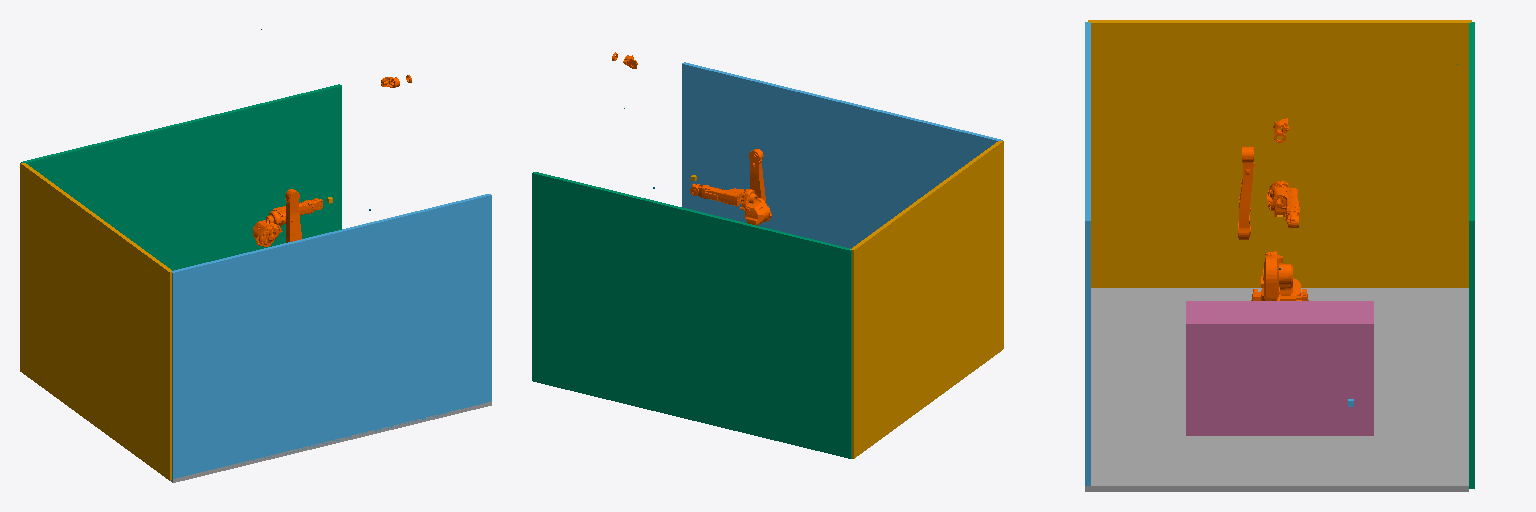
robot.urdf — irb1660_6_155:
<?xml version="1.0" ?>
<robot name="irb1660_6_155" xmlns:xacro="http://ros.org/wiki/xacro">
  <!-- robot link list -->
  <link name="base_link">
    <visual>
      <origin rpy="0 0 0" xyz="0 0 0" />
      <geometry>
        <mesh filename="package://abb_irb1660_support/meshes/base_link.stl" />
      </geometry>
      <material name="abb_orange">
        <color rgba="1 0.43 0 1" />
      </material>
    </visual>
    <collision>
      <geometry>
        <mesh filename="package://abb_irb1660_support/meshes/base_link.stl" />
      </geometry>
      <material name="yellow">
        <color rgba="0 1 1 1" />
      </material>
    </collision>
  </link>
  <link name="link_1">
    <visual>
      <origin rpy="0 0 0" xyz="0 0 0" />
      <geometry>
        <mesh filename="package://abb_irb1660_support/meshes/link_1.stl" />
      </geometry>
      <material name="abb_orange" />
    </visual>
    <collision>
      <origin rpy="0 0 0" xyz="0 0 0" />
      <geometry>
        <mesh filename="package://abb_irb1660_support/meshes/link_1.stl" />
      </geometry>
      <material name="yellow" />
    </collision>
  </link>
  <link name="link_2">
    <visual>
      <origin rpy="0 0 0" xyz="0 0 0" />
      <geometry>
        <mesh filename="package://abb_irb1660_support/meshes/link_2.stl" />
      </geometry>
      <material name="abb_orange" />
    </visual>
    <collision>
      <origin rpy="0 0 0" xyz="0 0 0" />
      <geometry>
        <mesh filename="package://abb_irb1660_support/meshes/link_2.stl" />
      </geometry>
      <material name="yellow" />
    </collision>
  </link>
  <link name="link_3">
    <visual>
      <origin rpy="0 0 0" xyz="0 0 0" />
      <geometry>
        <mesh filename="package://abb_irb1660_support/meshes/link_3.stl" />
      </geometry>
      <material name="abb_orange" />
    </visual>
    <collision>
      <origin rpy="0 0 0" xyz="0 0 0" />
      <geometry>
        <mesh filename="package://abb_irb1660_support/meshes/link_3.stl" />
      </geometry>
      <material name="yellow" />
    </collision>
  </link>
  <link name="link_4">
    <visual>
      <origin rpy="0 0 0" xyz="0 0 0" />
      <geometry>
        <mesh filename="package://abb_irb1660_support/meshes/link_4.stl" />
      </geometry>
      <material name="abb_orange" />
    </visual>
    <collision>
      <origin rpy="0 0 0" xyz="0 0 0" />
      <geometry>
        <mesh filename="package://abb_irb1660_support/meshes/link_4.stl" />
      </geometry>
      <material name="yellow" />
    </collision>
  </link>
  <link name="link_5">
    <visual>
      <origin rpy="0 0 0" xyz="0 0 0" />
      <geometry>
        <mesh filename="package://abb_irb1660_support/meshes/link_5.stl" />
      </geometry>
      <material name="abb_orange" />
    </visual>
    <collision>
      <origin rpy="0 0 0" xyz="0 0 0" />
      <geometry>
        <mesh filename="package://abb_irb1660_support/meshes/link_5.stl" />
      </geometry>
      <material name="yellow" />
    </collision>
  </link>
  <link name="link_6">
    <visual>
      <origin rpy="0 0 0" xyz="0 0 0" />
      <geometry>
        <mesh filename="package://abb_irb1660_support/meshes/link_6.stl" />
      </geometry>
      <material name="abb_orange" />
    </visual>
    <collision>
      <origin rpy="0 0 0" xyz="0 0 0" />
      <geometry>
        <mesh filename="package://abb_irb1660_support/meshes/link_6.stl" />
      </geometry>
      <material name="yellow" />
    </collision>
  </link>
  <!-- tool link list -->
  <link name="tool0">
    <visual>
      <origin rpy="0 0 0" xyz="0 0 0" />
      <geometry>
        <mesh filename="package://abb_irb1660_support/meshes/tools/tool_sks_FP8i-L.stl" />
      </geometry>
      <material name="abb_orange" />
    </visual>
    <collision>
      <origin rpy="0 0 0" xyz="0 0 0" />
      <geometry>
        <mesh filename="package://abb_irb1660_support/meshes/tools/tool_sks_FP8i-L.stl" />
      </geometry>
      <material name="yellow" />
    </collision>
  </link>
  <!-- camera link list -->
  <link name="mounted_camera_link">
    <visual>
      <origin rpy="0 0 0" xyz="0 0 0" />
      <geometry>
        <box size="0.05 0.05 0.05" />
      </geometry>
    </visual>
    <material name="Cyan">
      <color rgba="0 1.0 0 1.0" />
    </material>
  </link>
  <link name="external_camera_link">
    <visual>
      <origin rpy="0 0 0" xyz="0 0 0" />
      <geometry>
        <box size="0.05 0.05 0.05" />
      </geometry>
    </visual>
    <material name="Cyan">
      <color rgba="0 1.0 0 1.0" />
    </material>
  </link>
  <link name="mounted_camera_optical_frame">
    <visual>
      <origin rpy="0 0 0" xyz="0.0 0.0 0" />
      <geometry>
        <sphere radius="0.005" />
      </geometry>
    </visual>
  </link>
  <link name="external_camera_optical_frame">
    <visual>
      <origin rpy="0 0 0" xyz="0.0 0.0 0" />
      <geometry>
        <sphere radius="0.005" />
      </geometry>
    </visual>
  </link>
  <link name="led_link">
    <visual>
      <origin rpy="0 0 0" xyz="0 0 -0.050" />
      <geometry>
        <sphere radius="0.01" />
      </geometry>
    </visual>
  </link>
  <!-- end of link list -->
  <!-- robot joint list -->
  <joint name="joint_1" type="revolute">
    <origin rpy="0 0 0" xyz="0 0 0.124" />
    <parent link="base_link" />
    <child link="link_1" />
    <axis xyz="0 0 1" />
    <limit effort="0" lower="-3.14159" upper="3.14159" velocity="3.14159" />
    <calibration rising="4.71156" />
  </joint>
  <joint name="joint_2" type="revolute">
    <origin rpy="0 0 0" xyz="0.15 -0.107 0.3625" />
    <parent link="link_1" />
    <child link="link_2" />
    <axis xyz="0 1 0" />
    <limit effort="0" lower="-1.5708" upper="2.61799" velocity="3.14159" />
    <calibration rising="0.486827" />
  </joint>
  <joint name="joint_3" type="revolute">
    <origin rpy="0 0 0" xyz="0 0 0.7" />
    <parent link="link_2" />
    <child link="link_3" />
    <axis xyz="0 1 0" />
    <limit effort="0" lower="-4.15388" upper="1.37881" velocity="3.14159" />
    <calibration rising="0.487013" />
  </joint>
  <joint name="joint_4" type="revolute">
    <origin rpy="0 0 0" xyz="0.128 0.107 0.108" />
    <parent link="link_3" />
    <child link="link_4" />
    <axis xyz="1 0 0" />
    <limit effort="0" lower="-3.05433" upper="3.05433" velocity="5.58505" />
    <calibration rising="1.63361" />
  </joint>
  <joint name="joint_5" type="revolute">
    <origin rpy="0 0 0" xyz="0.55 0 0" />
    <parent link="link_4" />
    <child link="link_5" />
    <axis xyz="0 1 0" />
    <limit effort="0" lower="-2.0944" upper="2.0944" velocity="6.28319" />
    <calibration rising="14.7787" />
  </joint>
  <joint name="joint_6" type="revolute">
    <origin rpy="0.0 0 0" xyz="0.135 0 0" />
    <parent link="link_5" />
    <child link="link_6" />
    <axis xyz="1 0 0" />
    <limit effort="0" lower="-6.98132" upper="6.98132" velocity="8.72665" />
    <calibration rising="2.83624" />
  </joint>
  <!-- tool joint list -->
  <joint name="joint_6-tool0" type="fixed">
    <parent link="link_6" />
    <child link="tool0" />
    <origin rpy="0 0 0" xyz="0 0 0" />
  </joint>
  <!-- camera joint list -->
  <joint name="mounted_camera_joint" type="fixed">
    <origin rpy="0 0 0" xyz="0.095 0 0.075" />
    <parent link="link_5" />
    <child link="mounted_camera_link" />
  </joint>
  <joint name="mounted_camera_optical_joint" type="fixed">
    <origin rpy="0.17680165 -0.00638975 2.11120826" xyz="0.00998934 1.50624500 1.44227175" />
    <parent link="mounted_camera_link" />
    <child link="mounted_camera_optical_frame" />
  </joint>
  <joint name="external_camera_joint" type="fixed">
    <origin rpy="0 0 4.75" xyz="2.439 0.60 0.354" />
    <parent link="base_link" />
    <child link="external_camera_link" />
  </joint>
  <joint name="external_camera_optical_joint" type="fixed">
    <origin rpy="0 0 0" xyz="0.010 0 0.010" />
    <parent link="external_camera_link" />
    <child link="external_camera_optical_frame" />
  </joint>
  <joint name="led_joint" type="fixed">
    <origin rpy="0 0 0" xyz="0.463 0.0 -0.110" />
    <parent link="tool0" />
    <child link="led_link" />
  </joint>
  <!-- end of joint list -->
  <!-- object placement -->
  <!-- object link list -->
  <link name="front_of_cel_link" />
  <link name="external_axis_object">
    <visual>
      <origin rpy="0 0 0" xyz="0 0 0" />
      <geometry>
        <box size="0.45 1.60 1.05" />
      </geometry>
    </visual>
    <material name="Blue">
      <color rgba="0 0 1.0 1.0" />
    </material>
    <collision>
      <origin rpy="0 0 0" xyz="0 0 0" />
      <geometry>
        <box size="0.45 1.60 1.05" />
      </geometry>
      <material name="Blue" />
    </collision>
  </link>
  <link name="ground_object">
    <visual>
      <origin rpy="1.5708 0 0" xyz="0 -0.025 0" />
      <geometry>
        <box size="4 0.05 3.25" />
      </geometry>
    </visual>
    <material name="Cyan">
      <color rgba="0 255 0 0.3" />
    </material>
    <collision>
      <origin rpy="1.5708  0 0" xyz="0 -0.025 0" />
      <geometry>
        <box size="4 0.05 3.25" />
      </geometry>
      <material name="Cyan">
        <color rgba="0 255 0 0.3" />
      </material>
    </collision>
  </link>
  <link name="wall_back_object">
    <visual>
      <origin rpy="0 0 1.5708" xyz="0 0 1.25" />
      <geometry>
        <box size="3.25 0.05 2.5" />
      </geometry>
    </visual>
    <material name="Cyan">
      <color rgba="0 255 0 0.3" />
    </material>
    <collision>
      <origin rpy="0 0 1.5708" xyz="0 0 1.25" />
      <geometry>
        <box size="3.25 0.05 2.5" />
      </geometry>
      <material name="Cyan">
        <color rgba="0 255 0 0.3" />
      </material>
    </collision>
  </link>
  <link name="wall_left_object">
    <visual>
      <origin rpy="0 0 0" xyz="-2 0 1.25" />
      <geometry>
        <box size="4 0.05 2.5" />
      </geometry>
    </visual>
    <material name="Cyan">
      <color rgba="0 255 0 0.3" />
    </material>
    <collision>
      <origin rpy="0 0 0" xyz="-2 0 1.25" />
      <geometry>
        <box size="4 0.05 2.5" />
      </geometry>
      <material name="Cyan">
        <color rgba="0 255 0 0.3" />
      </material>
    </collision>
  </link>
  <link name="wall_right_object">
    <visual>
      <origin rpy="0 0 0" xyz="-2 0 1.25" />
      <geometry>
        <box size="4 0.05 2.5" />
      </geometry>
    </visual>
    <material name="Cyan">
      <color rgba="0 255 0 0.3" />
    </material>
    <collision>
      <origin rpy="0 0 0" xyz="-2 0 1.25" />
      <geometry>
        <box size="4 0.05 2.5" />
      </geometry>
      <material name="Cyan">
        <color rgba="0 255 0 0.3" />
      </material>
    </collision>
  </link>
  <!--object joint list -->
  <joint name="front_of_cel_joint" type="fixed">
    <origin rpy="0 0 0" xyz="2 0 -0.655" />
    <parent link="base_link" />
    <child link="front_of_cel_link" />
  </joint>
  <joint name="external_axis_joint" type="fixed">
    <origin rpy="0 0 0" xyz="0.993 0 0" />
    <parent link="base_link" />
    <child link="external_axis_object" />
  </joint>
  <joint name="ground_joint" type="fixed">
    <origin rpy="0 0 0" xyz="-2 0 0" />
    <parent link="front_of_cel_link" />
    <child link="ground_object" />
  </joint>
  <joint name="front_to_back_wall_joint" type="fixed">
    <origin rpy="0 0 0" xyz="-4 0 0" />
    <parent link="front_of_cel_link" />
    <child link="wall_back_object" />
  </joint>
  <joint name="front_to_left_wall_joint" type="fixed">
    <origin rpy="0 0 0" xyz="0 -1.625 0" />
    <parent link="front_of_cel_link" />
    <child link="wall_left_object" />
  </joint>
  <joint name="front_to_right_wall_joint" type="fixed">
    <origin rpy="0 0 0" xyz="0 1.625 0" />
    <parent link="front_of_cel_link" />
    <child link="wall_right_object" />
  </joint>
  <!--end of object placement -->
</robot>

--- Facts derived from the render (not from the file) ---
3 views of the same robot in one strip: view 1: azimuth 30°, elevation 25°; view 2: azimuth 150°, elevation 25°; view 3: azimuth 270°, elevation 25° (orthographic).
Robot: irb1660_6_155 — 19 links, 18 joints (6 revolute, 12 fixed); root link base_link; default pose: all joints at 0.
Links seen in each view (by area): view 1: wall_left_object, wall_right_object, wall_back_object, ground_object, link_3, link_2; view 2: wall_right_object, wall_left_object, wall_back_object, link_3, link_4, link_2; view 3: wall_back_object, ground_object, external_axis_object, wall_right_object, wall_left_object, link_1, link_2, link_4.
Boxes of the visible links, x1=… form: wall_left_object: x1=171, y1=194, x2=491, y2=480; wall_right_object: x1=21, y1=84, x2=341, y2=270; wall_back_object: x1=20, y1=163, x2=171, y2=480; ground_object: x1=24, y1=374, x2=491, y2=482; link_3: x1=253, y1=211, x2=283, y2=246; link_2: x1=285, y1=189, x2=301, y2=242; wall_right_object: x1=532, y1=172, x2=851, y2=458; wall_left_object: x1=682, y1=62, x2=1002, y2=248; wall_back_object: x1=850, y1=141, x2=1003, y2=458; link_3: x1=740, y1=189, x2=771, y2=225; link_4: x1=690, y1=183, x2=743, y2=206; link_2: x1=749, y1=149, x2=765, y2=201; wall_back_object: x1=1088, y1=20, x2=1471, y2=287; ground_object: x1=1085, y1=288, x2=1468, y2=491; external_axis_object: x1=1186, y1=301, x2=1373, y2=435; wall_right_object: x1=1469, y1=22, x2=1474, y2=488; wall_left_object: x1=1085, y1=22, x2=1090, y2=485; link_1: x1=1261, y1=251, x2=1302, y2=300; link_2: x1=1238, y1=147, x2=1254, y2=239; link_4: x1=1270, y1=187, x2=1299, y2=228.
Bounding box of the posed robot: 4.49 × 3.3 × 3.5 m (x, y, z).
7 mesh visuals loaded from 8 distinct referenced files (4 binary STL, 3 ASCII STL); not drawn: 1 (reference not matched to a file when rendering).